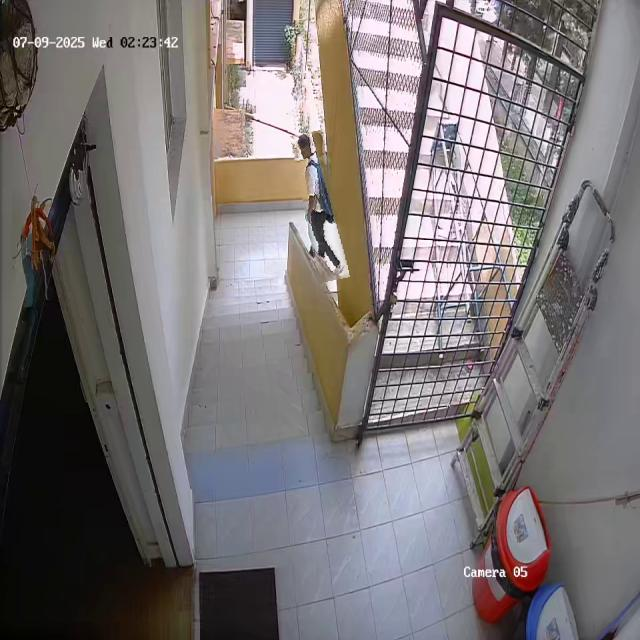person: (297, 131, 343, 283)
